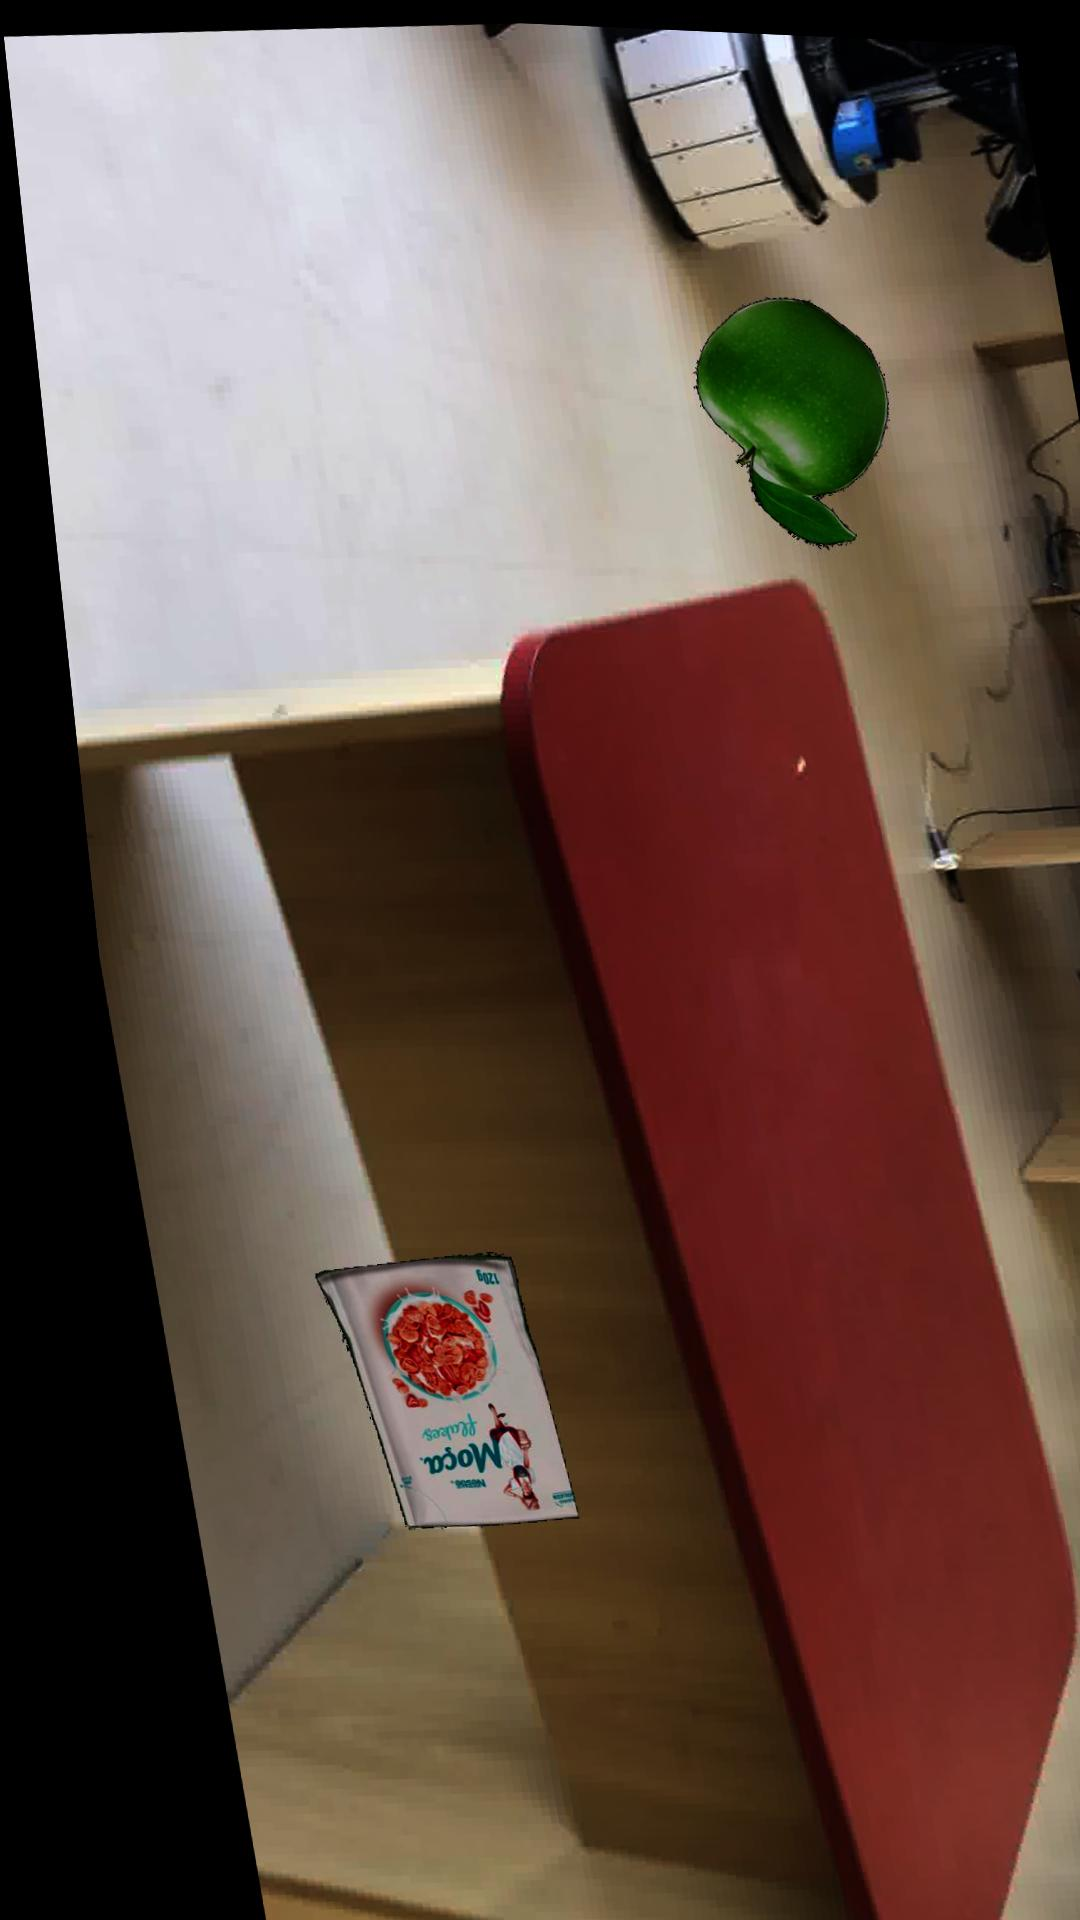corn flakes: (284, 1246, 543, 1523)
green apple: (684, 287, 877, 537)
